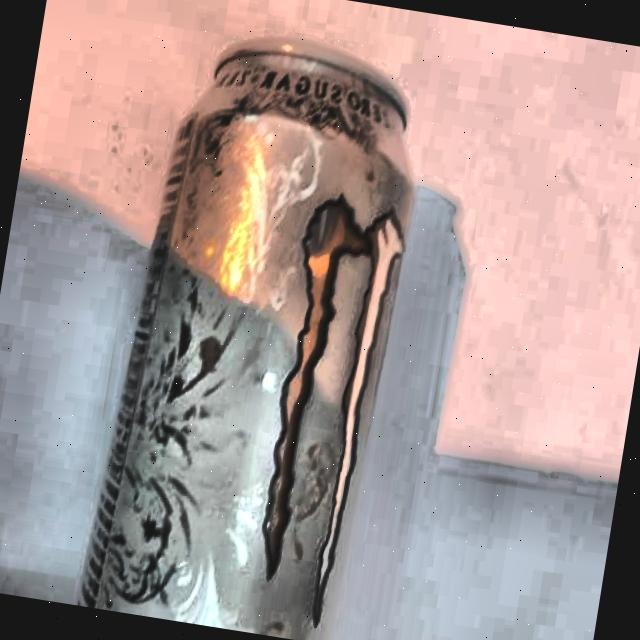metal: (70, 18, 434, 640)
